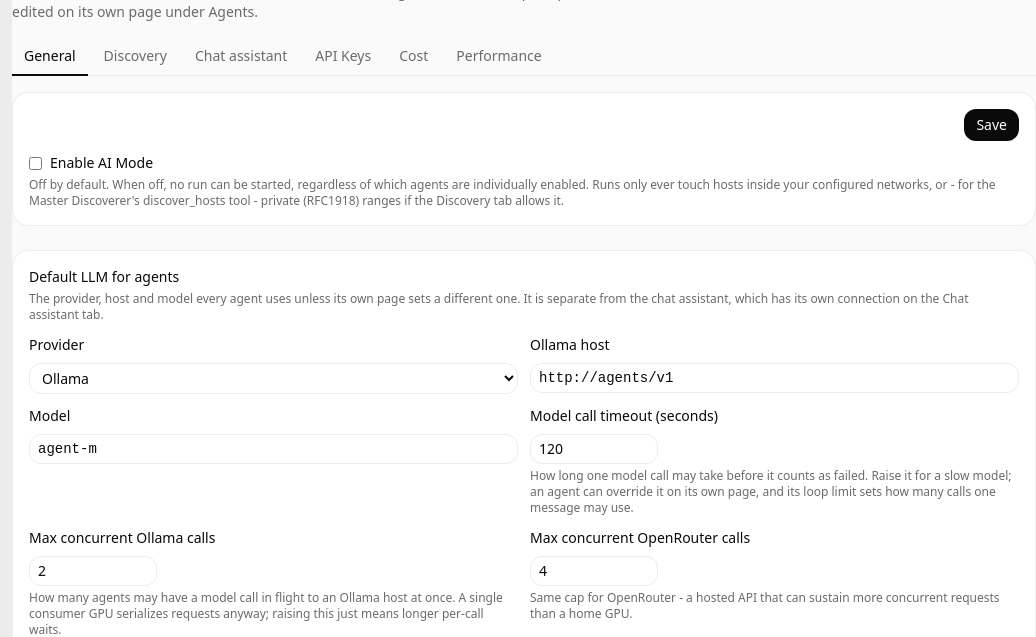
Scenario: AiConfigPage › tests the connection with an already-stored OpenRouter key, not just a freshly pasted one
Select "OpenRouter" in the dropdown labelled "Provider" at (274, 378), box [29,363,518,394]
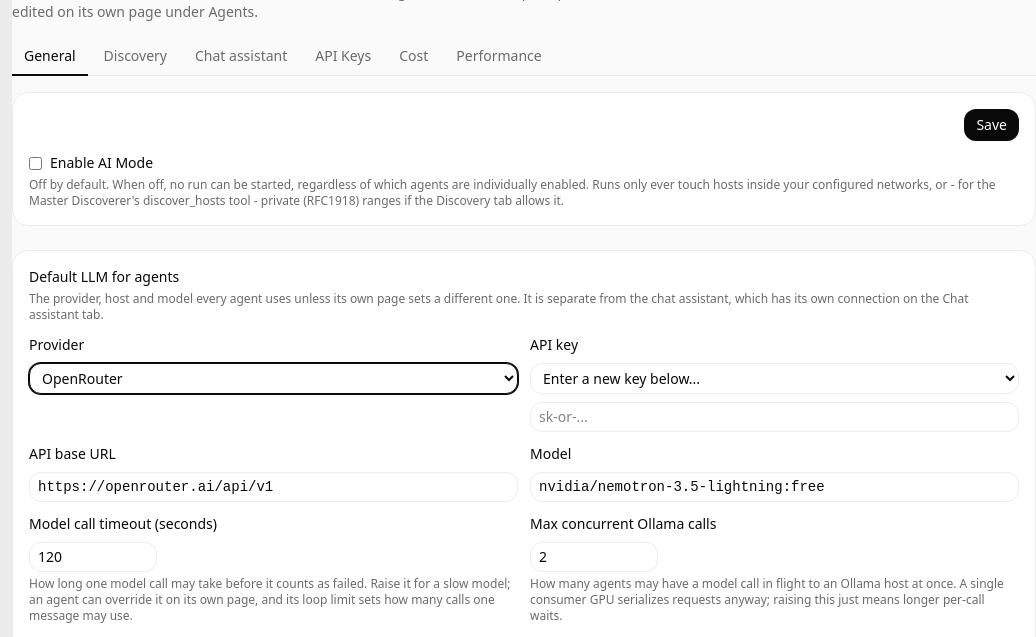
Select "OpenRouter API key" in the dropdown named "Stored OpenRouter key" at (774, 378), box [530,363,1019,394]
(page scrolled)
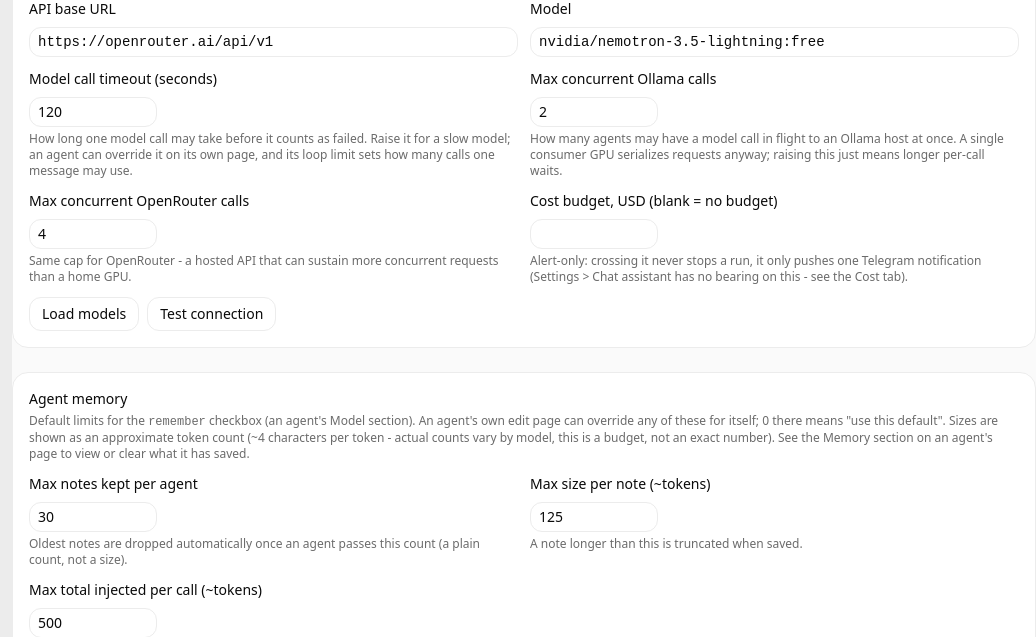
Click the button "Test connection" at (212, 314), box [147,297,276,331]
(page scrolled)
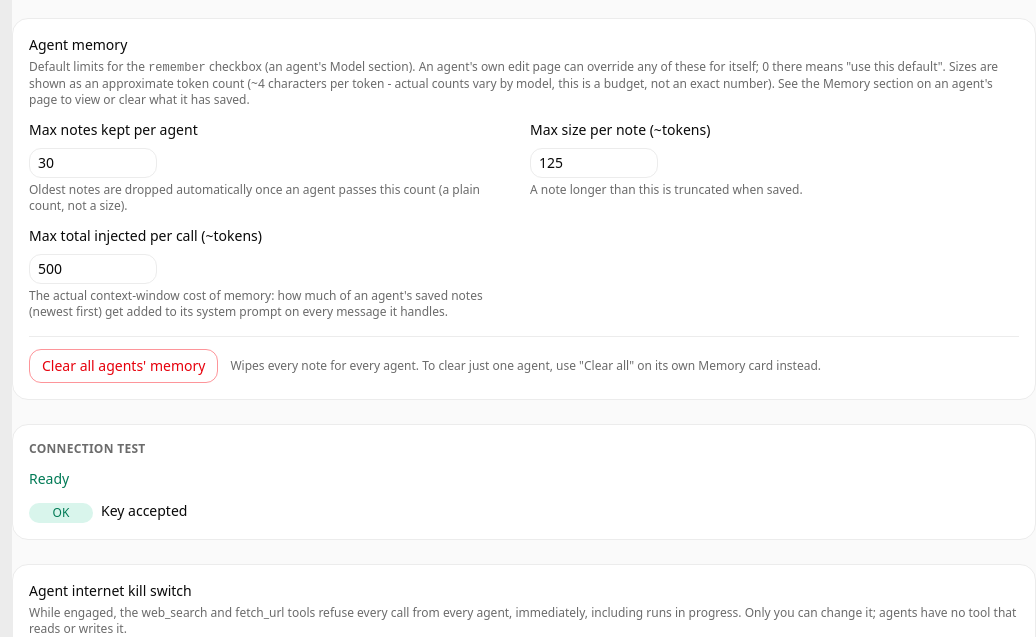
Now the text "Key accepted" is shown, box [101,501,187,521]
